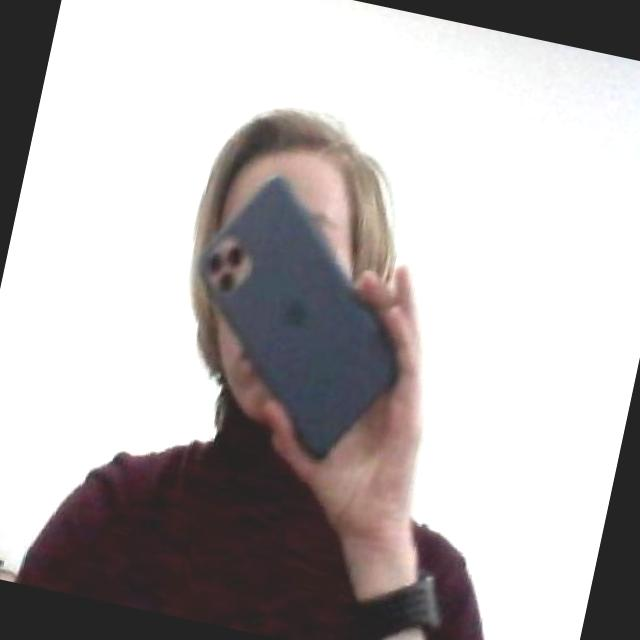lens_back: (203, 249, 228, 277), (224, 246, 246, 268), (216, 271, 238, 293)
phone: (160, 156, 436, 483)
